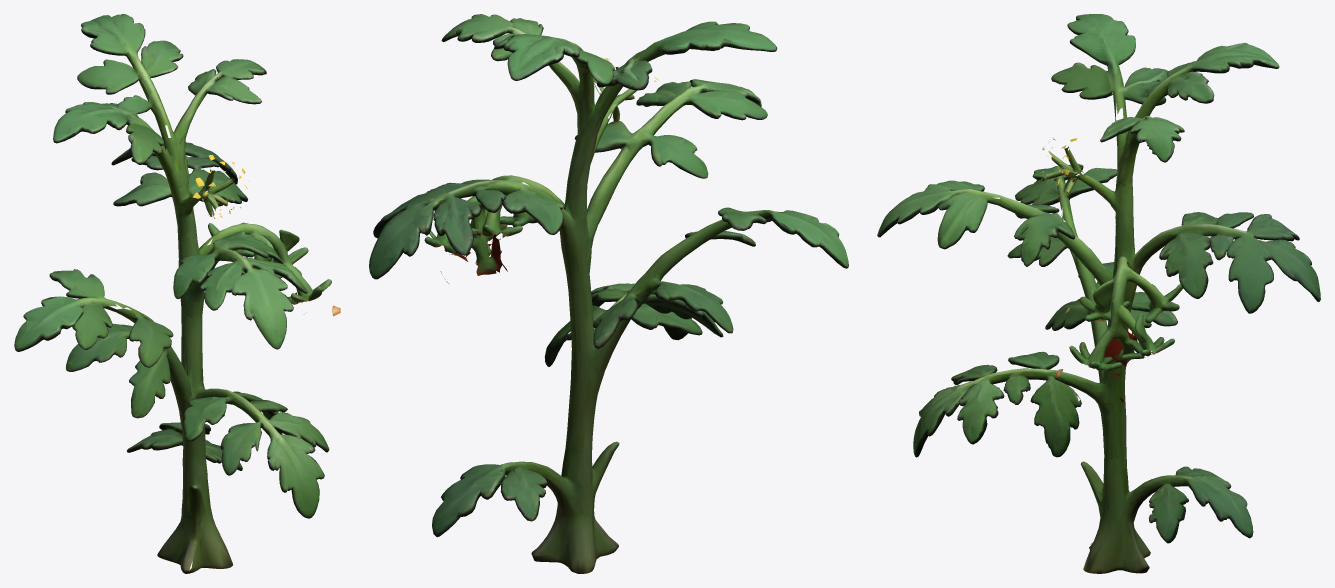
File: plant_tomato_clay_vegetative.glb
3 views of the same model, side by side, from view 1: azimuth 30°, elevation 25°; view 2: azimuth 150°, elevation 25°; view 3: azimuth 270°, elevation 25° (orthographic). The views are drawn at different scales.
Visible parts, largest first — view 1: tripo_node_7225cf2a-3e7f-467a-aac7-eda7ac97cce7; view 2: tripo_node_7225cf2a-3e7f-467a-aac7-eda7ac97cce7; view 3: tripo_node_7225cf2a-3e7f-467a-aac7-eda7ac97cce7.
Part boxes in pixels (x1,y1,x2,y2): tripo_node_7225cf2a-3e7f-467a-aac7-eda7ac97cce7: (14,14,340,573); tripo_node_7225cf2a-3e7f-467a-aac7-eda7ac97cce7: (369,14,848,573); tripo_node_7225cf2a-3e7f-467a-aac7-eda7ac97cce7: (877,14,1320,573).
Size of the model in its own units: 0.6874 by 0.9805 by 0.7894.
Materials: 1 (1 with a texture image).
